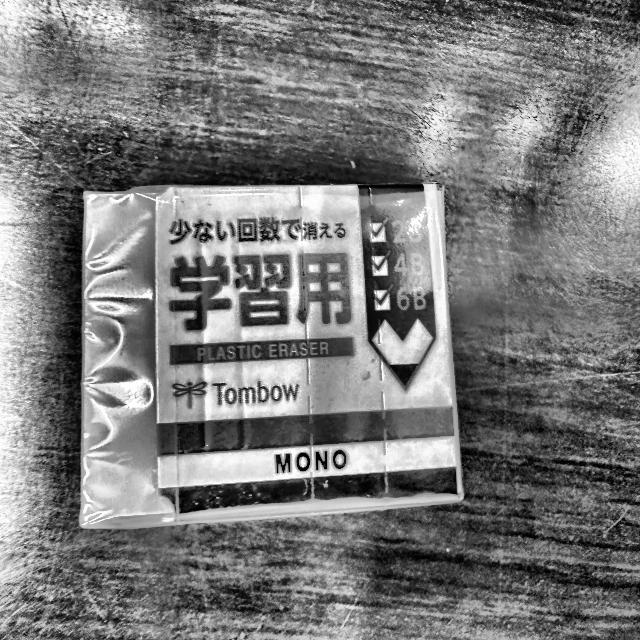eraser: (64, 175, 472, 536)
